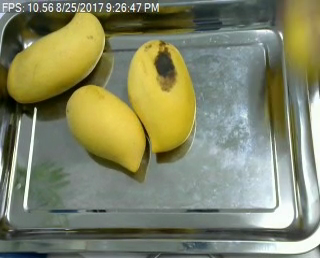Mango: (7, 7, 107, 102), (126, 39, 196, 156), (65, 86, 147, 172)
